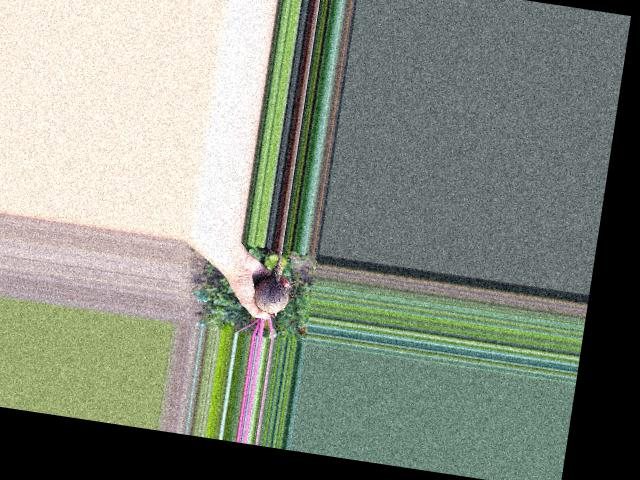beet: (234, 242, 309, 342)
